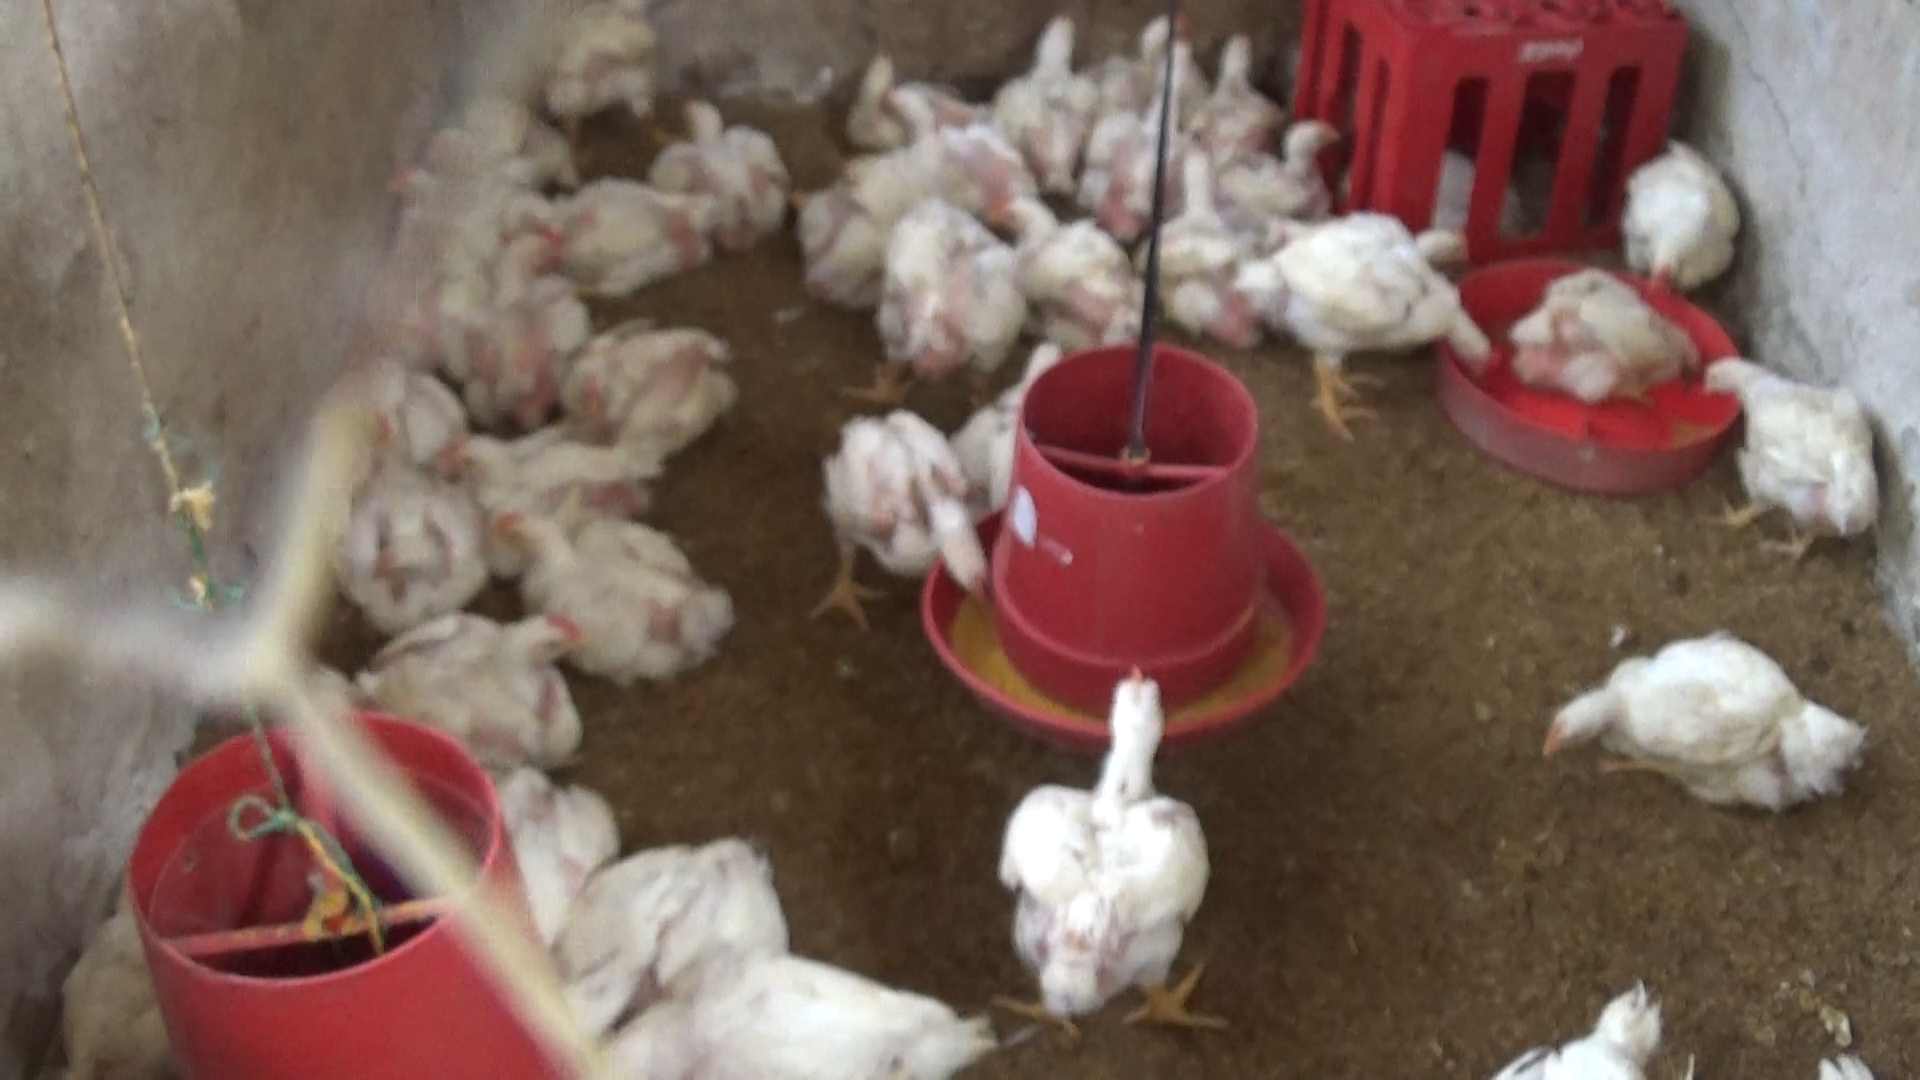Pollos: (997, 658, 1253, 1048), (1524, 615, 1873, 803), (562, 948, 994, 1080), (485, 491, 750, 678), (1232, 216, 1495, 397), (545, 816, 775, 1021), (342, 601, 616, 757), (1698, 348, 1894, 558), (816, 400, 997, 622), (1505, 257, 1702, 413), (870, 196, 1026, 386), (324, 456, 491, 633), (981, 173, 1145, 349), (440, 216, 578, 425), (560, 311, 736, 452), (444, 409, 662, 522), (1142, 142, 1269, 332), (1613, 127, 1749, 295), (665, 94, 804, 251), (539, 169, 711, 286), (994, 11, 1097, 185), (1106, 1, 1205, 162), (1222, 123, 1354, 208), (1204, 25, 1284, 150)
